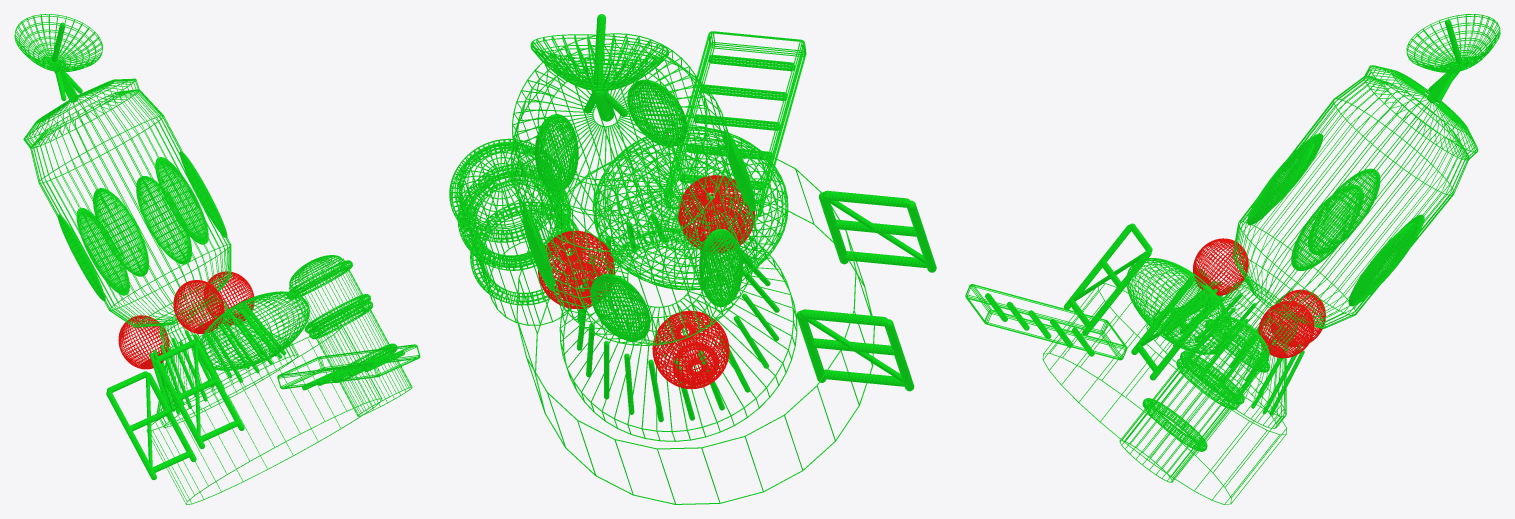
File: ore-teleporter-highlight-atomic-scan-generators.glb
The picture shows the model from 3 angles, left to right: view 1: azimuth 30°, elevation 25°; view 2: azimuth 150°, elevation 25°; view 3: azimuth 270°, elevation 25°; orthographic projection. The views are drawn at different scales.
Parts seen in each view (by area): view 1: chassis technical wire, data-throughput-supercomputer technical wire, atomic-scan-generators technical wire, long-range-transceiver technical wire; view 2: chassis technical wire, atomic-scan-generators technical wire, data-throughput-supercomputer technical wire, long-range-transceiver technical wire; view 3: chassis technical wire, data-throughput-supercomputer technical wire, atomic-scan-generators technical wire, long-range-transceiver technical wire.
Boxes of the visible parts, box(x1,y1,x2,y2) form: chassis technical wire: box(23, 78, 420, 504); data-throughput-supercomputer technical wire: box(287, 255, 412, 416); atomic-scan-generators technical wire: box(118, 271, 254, 369); long-range-transceiver technical wire: box(14, 14, 102, 102); chassis technical wire: box(510, 31, 936, 504); atomic-scan-generators technical wire: box(538, 175, 754, 388); data-throughput-supercomputer technical wire: box(449, 138, 583, 325); long-range-transceiver technical wire: box(530, 14, 668, 121); chassis technical wire: box(965, 65, 1478, 504); data-throughput-supercomputer technical wire: box(1119, 316, 1270, 482); atomic-scan-generators technical wire: box(1193, 238, 1325, 358); long-range-transceiver technical wire: box(1406, 14, 1500, 103).
Bounding box in the file's own units: 1.78 × 2.47 × 2.73.
